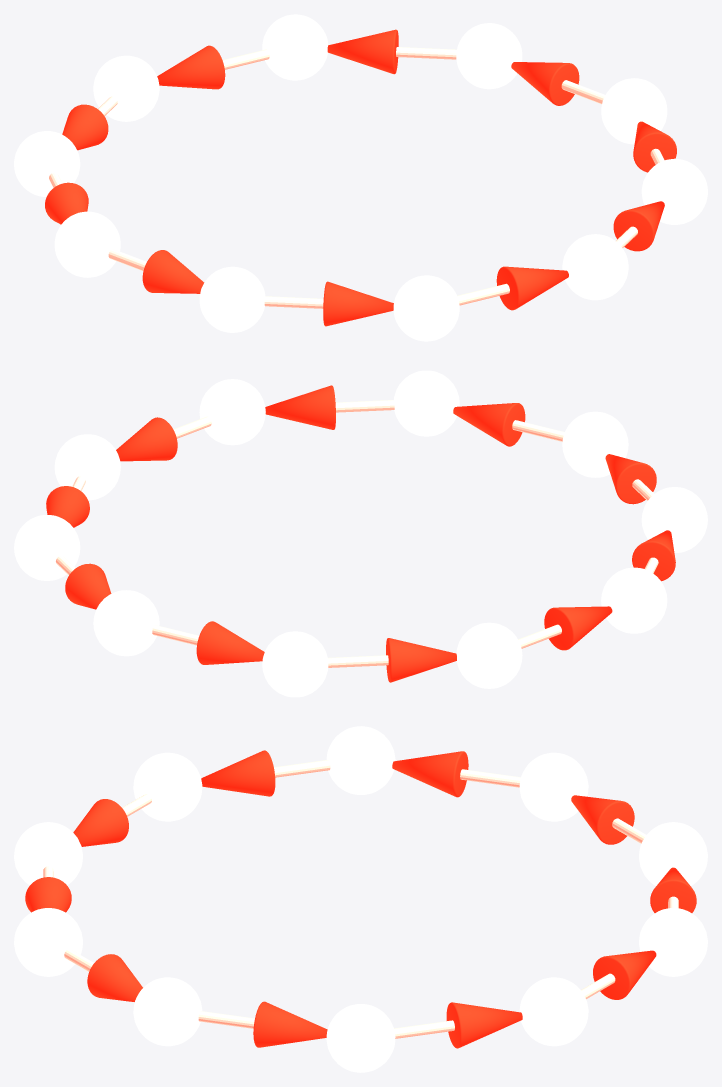
3 renders of one model, top to bottom at view 1: azimuth 30°, elevation 25°; view 2: azimuth 150°, elevation 25°; view 3: azimuth 270°, elevation 25°, orthographic. The views are drawn at different scales.
Visible parts, largest first — view 1: Sphere.0007, Sphere.0006, Sphere.0008, Sphere.0002, Sphere.0001, Sphere.0005, Sphere.0003, Sphere.0009, Sphere.0004, Sphere.0000, Alpha.0002, Alpha.0006 (+11 smaller); view 2: Sphere.0003, Sphere.0004, Sphere.0008, Sphere.0002, Sphere.0005, Sphere.0009, Sphere.0001, Sphere.0007, Sphere.0000, Sphere.0006, Alpha.0002, Alpha.0008 (+11 smaller); view 3: Sphere.0000, Sphere.0001, Sphere.0009, Sphere.0005, Sphere.0006, Sphere.0004, Sphere.0008, Sphere.0002, Sphere.0007, Sphere.0003, Alpha.0005, Alpha.0009 (+12 smaller).
Boxes of the visible parts, x1,y1,x2,y2 form: Sphere.0007: (393,275,459,341); Sphere.0006: (199,266,265,332); Sphere.0008: (562,234,628,300); Sphere.0002: (262,14,328,80); Sphere.0001: (456,23,522,89); Sphere.0005: (54,211,120,277); Sphere.0003: (93,55,159,121); Sphere.0009: (641,158,707,224); Sphere.0004: (14,131,80,196); Sphere.0000: (601,78,667,144); Alpha.0002: (157,45,225,89); Alpha.0006: (323,281,393,326); Sphere.0003: (262,631,328,697); Sphere.0004: (456,622,522,688); Sphere.0008: (394,370,459,436); Sphere.0002: (93,590,159,656); Sphere.0005: (601,567,667,633); Sphere.0009: (199,379,265,445); Sphere.0001: (14,515,80,580); Sphere.0007: (562,411,628,477); Sphere.0000: (54,434,120,500); Sphere.0006: (641,487,707,552); Alpha.0002: (196,621,264,664); Alpha.0008: (265,385,335,429); Sphere.0000: (326,1004,395,1072); Sphere.0001: (519,977,588,1046); Sphere.0009: (133,977,202,1046); Sphere.0005: (326,726,395,794); Sphere.0006: (133,752,202,821); Sphere.0004: (519,752,588,821); Sphere.0008: (14,908,82,976); Sphere.0002: (639,908,707,976); Sphere.0007: (14,822,82,885); Sphere.0003: (639,822,707,885); Alpha.0005: (201,750,275,796); Alpha.0009: (253,1001,327,1047).
Bounding box in the file's own units: 1.36 × 0.1296 × 1.3.
